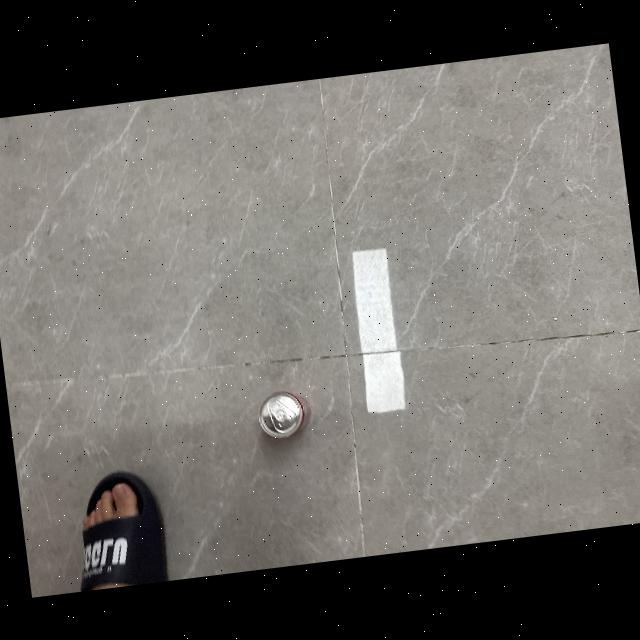Cola: (250, 384, 316, 446)
